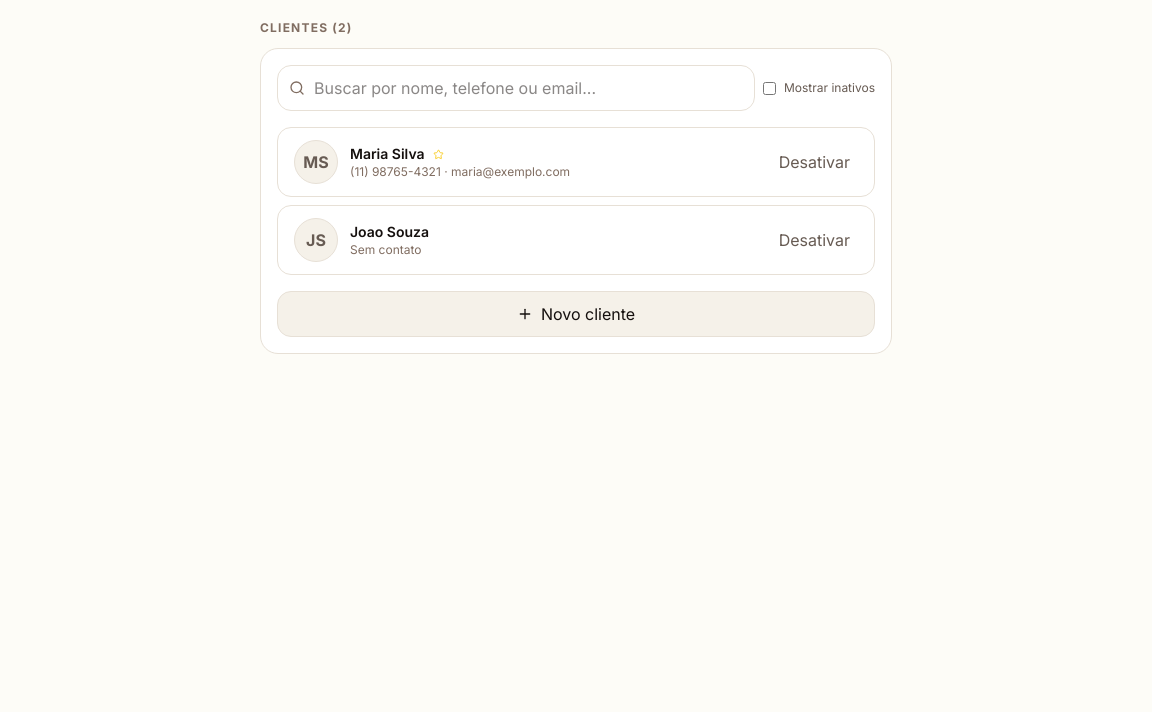
CustomersTab — lista e ficha do cliente › aviso de comanda em aberto aparece quando há comanda aberta
Click the button with aria-label "Ver ficha de Maria Silva".
click(316, 162)  # box [277, 127, 875, 197]
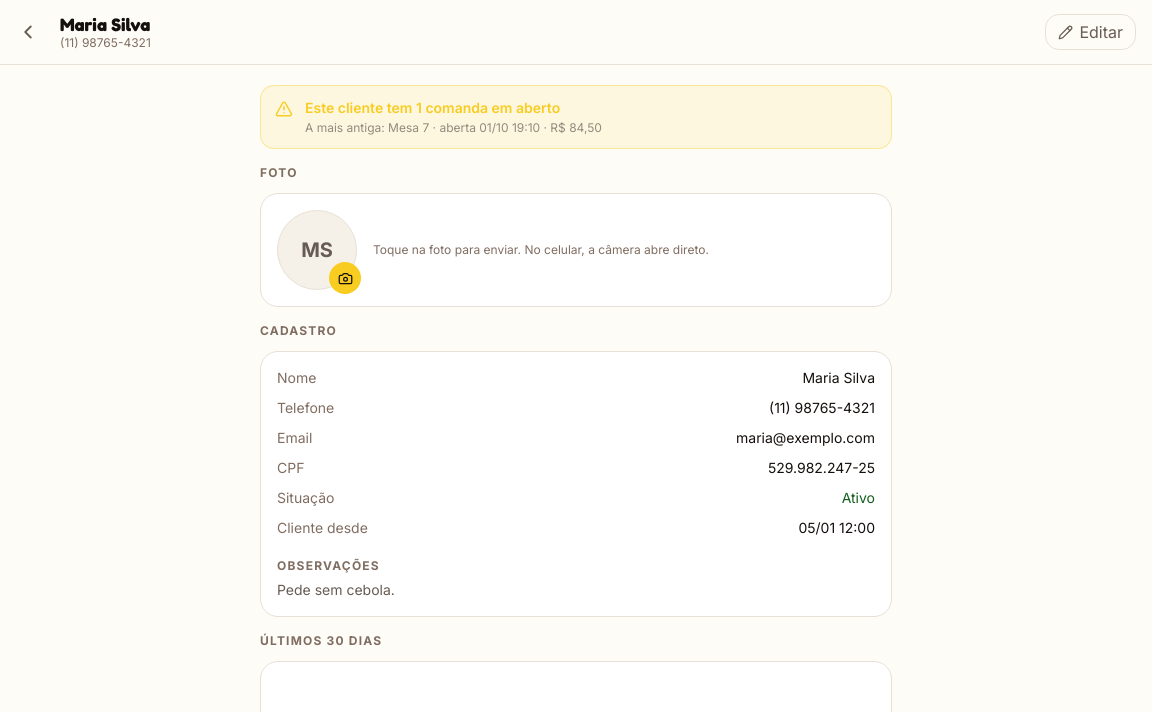
Expected: the message shows "1 comanda em aberto", [305, 99, 560, 116]
Expected: the message shows "Mesa 7", [388, 120, 429, 135]
